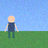person: (5, 15, 18, 38)
